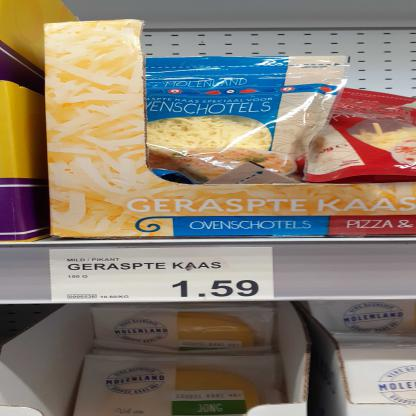prtg: (50, 248, 276, 303)
